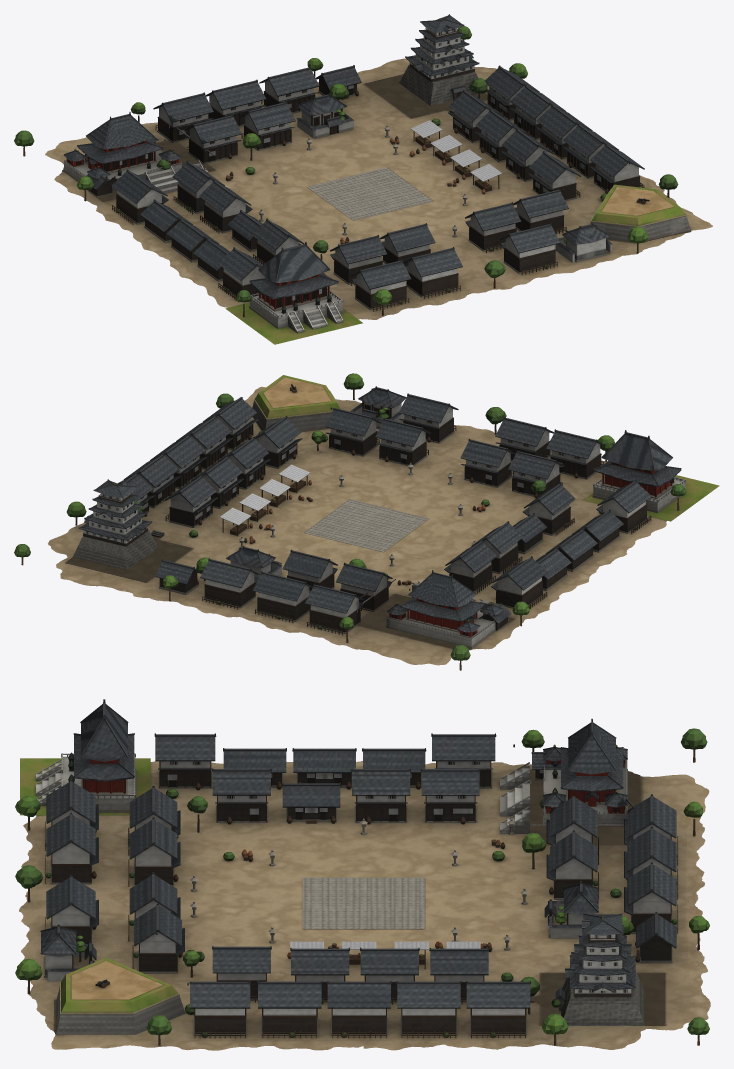
File: gunpowder-town-big-a-japan-edfdb4b6.glb
3 views of the same model, one above another, from view 1: azimuth 30°, elevation 25°; view 2: azimuth 150°, elevation 25°; view 3: azimuth 270°, elevation 25° (orthographic). The views are drawn at different scales.
Parts seen in each view (by area): view 1: LOD0; view 2: LOD0; view 3: LOD0.
Boxes of the visible parts, x1,y1,x2,y2 form: LOD0: [14, 14, 712, 344]; LOD0: [14, 373, 719, 670]; LOD0: [15, 699, 710, 1050].
Size of what is drawn, in the model's own units: 8.05 by 1.2 by 8.12.
Materials: 3 (3 with a texture image).
